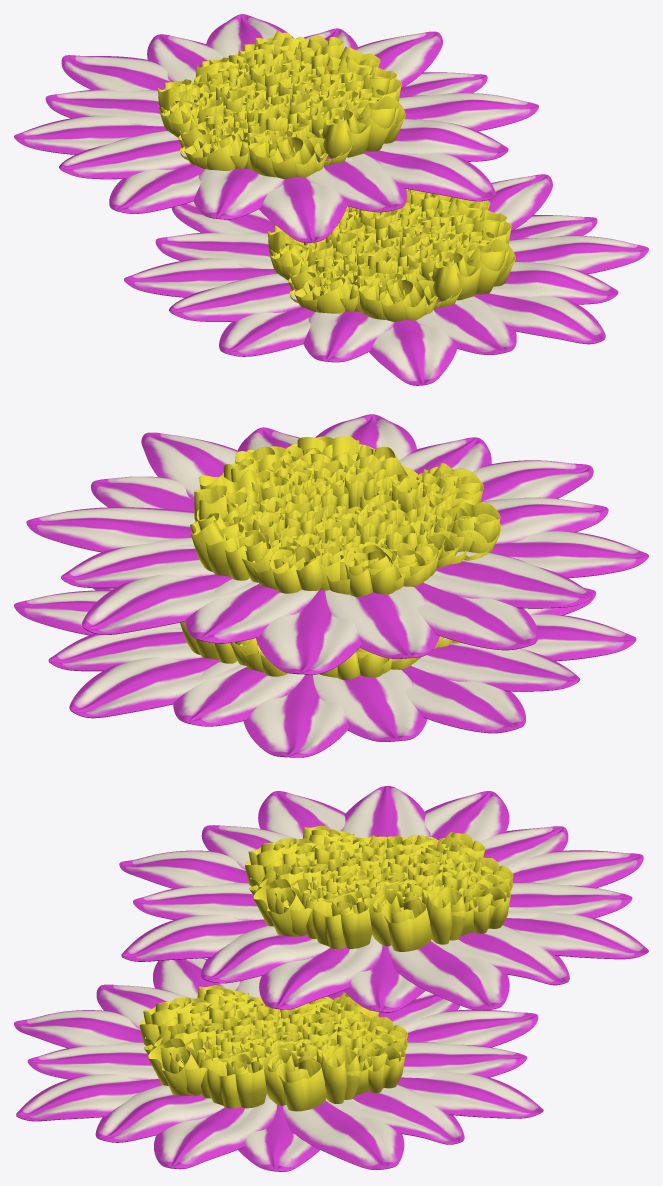
The model's file is Flower 003.glb.
3 views of the same model, one above another, from view 1: azimuth 30°, elevation 25°; view 2: azimuth 150°, elevation 25°; view 3: azimuth 270°, elevation 25° (orthographic). The views are drawn at different scales.
Visible parts, largest first — view 1: BézierCurve.002, Plane.004, Plane.002, BézierCurve.001, Plane.003, Plane.001; view 2: BézierCurve.002, Plane.004, Plane.003, Plane.002, Plane.001, BézierCurve.001; view 3: Plane.004, Plane.002, BézierCurve.002, Plane.003, BézierCurve.001, Plane.001.
Boxes of the visible parts, <box> form: BézierCurve.002: <box>158,30,405,179</box>; Plane.004: <box>14,14,538,242</box>; Plane.002: <box>124,174,648,385</box>; BézierCurve.001: <box>268,188,515,321</box>; Plane.003: <box>45,28,508,219</box>; Plane.001: <box>155,215,618,362</box>; BézierCurve.002: <box>190,436,500,596</box>; Plane.004: <box>26,414,648,674</box>; Plane.003: <box>61,427,608,658</box>; Plane.002: <box>14,590,636,757</box>; Plane.001: <box>48,588,596,741</box>; BézierCurve.001: <box>180,621,460,680</box>; Plane.004: <box>119,791,648,1010</box>; Plane.002: <box>14,958,543,1169</box>; BézierCurve.002: <box>245,825,513,951</box>; Plane.003: <box>133,786,632,1012</box>; BézierCurve.001: <box>139,985,408,1111</box>; Plane.001: <box>27,976,526,1171</box>.
Bounding box in the file's own units: 15.64 × 6.94 × 16.68.
2 materials, 1 textured.
